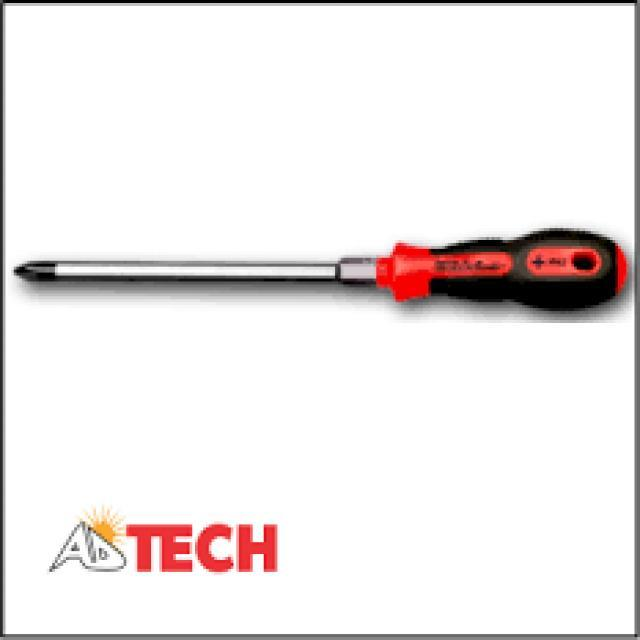screwdriver: (0, 225, 637, 313)
